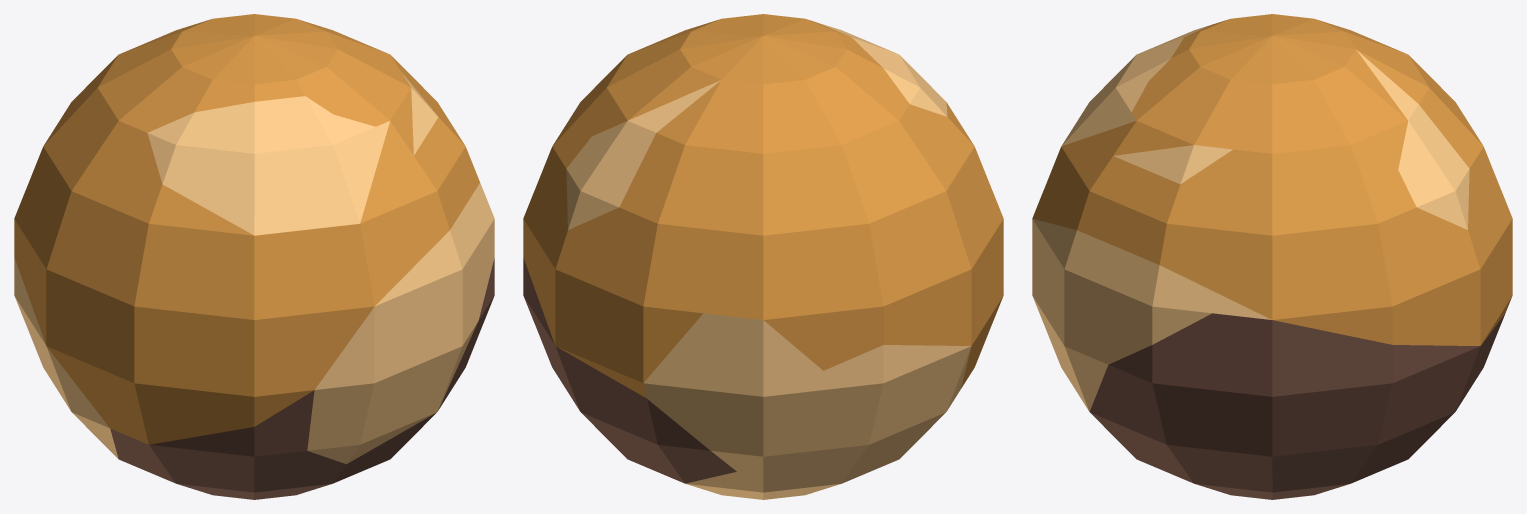
Rendered from Pluto.glb.
3 views of the same model, side by side, from view 1: azimuth 30°, elevation 25°; view 2: azimuth 150°, elevation 25°; view 3: azimuth 270°, elevation 25° (orthographic).
Parts seen in each view (by area): view 1: group646701568; view 2: group646701568; view 3: group646701568.
Boxes of the visible parts, <box> form: group646701568: <box>14,14,494,499</box>; group646701568: <box>523,14,1003,499</box>; group646701568: <box>1032,14,1512,499</box>.
Bounding box in the file's own units: 1.37 × 1.39 × 1.37.
